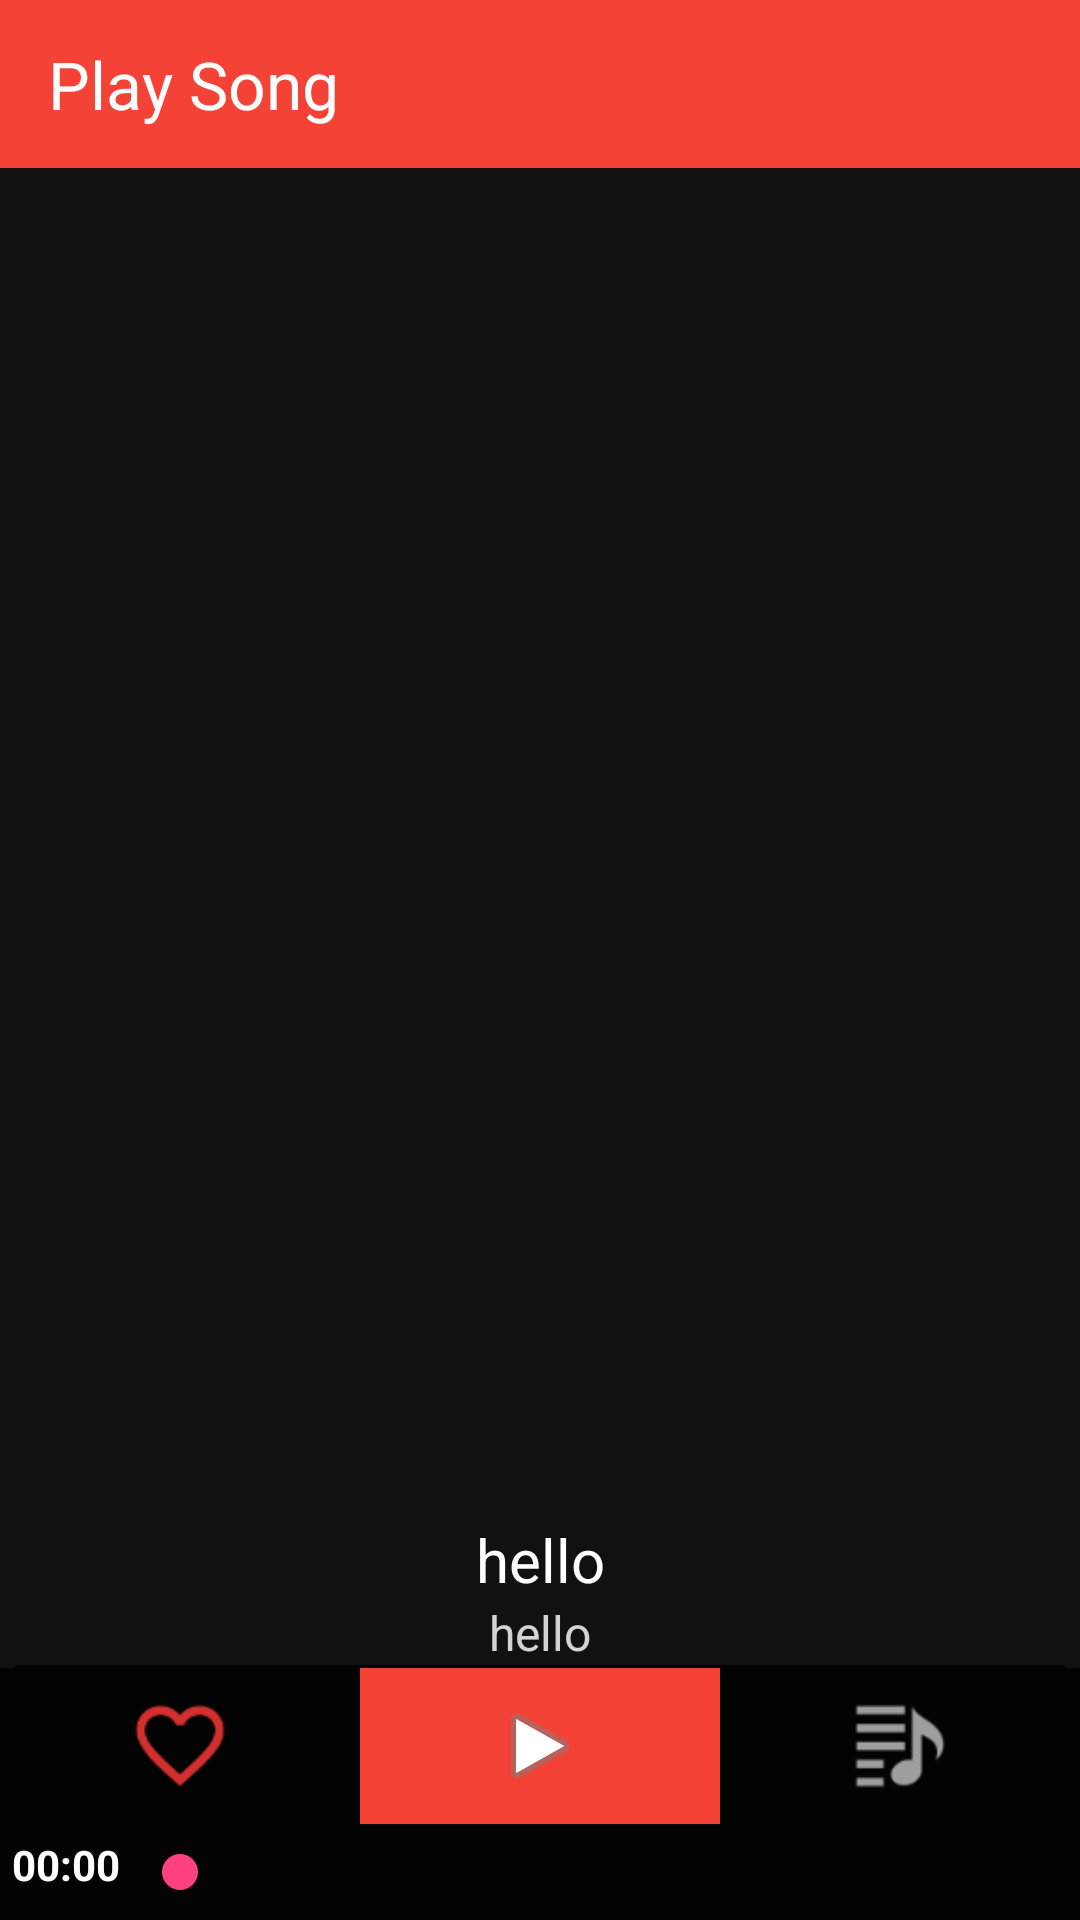

Screen size 1080*1920. Icon name, then its box in pixels as {"x1": x1, "y1": y1, "x2": x2, "y2": y2}:
nofav: {"x1": 135, "y1": 1705, "x2": 225, "y2": 1787}
playlist: {"x1": 855, "y1": 1705, "x2": 945, "y2": 1787}
